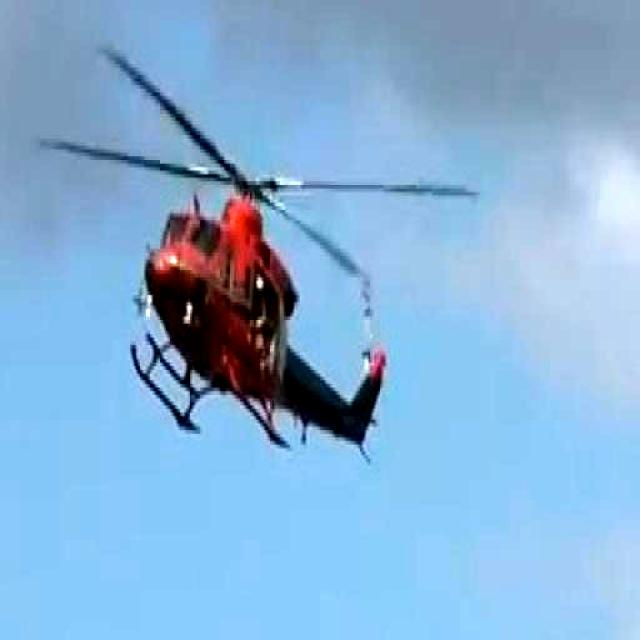drone: (94, 34, 390, 474)
